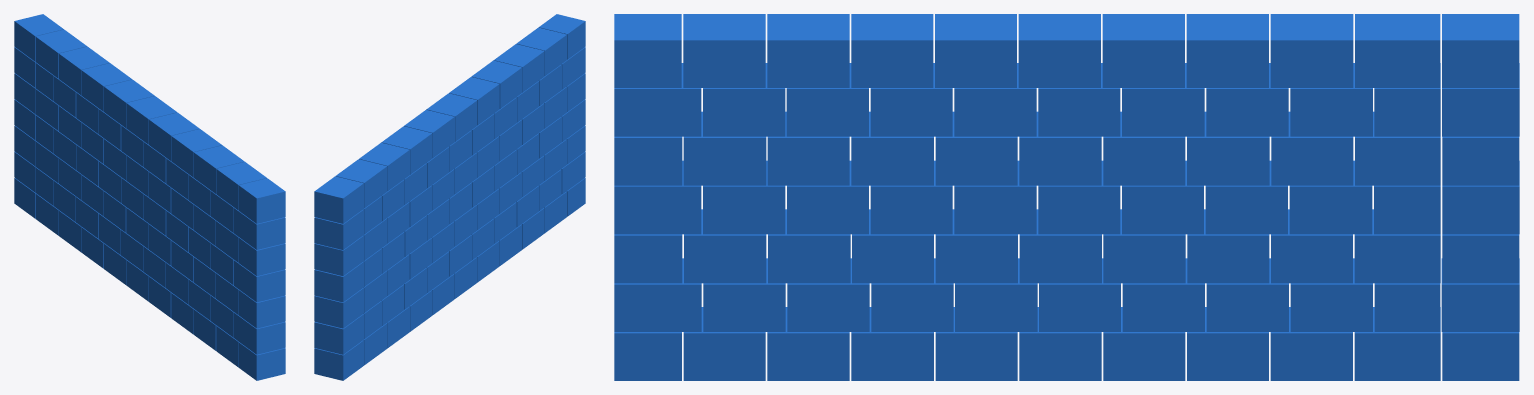
The model's file is cik cak zid.fbx.
3 views of the same model, side by side, from view 1: azimuth 30°, elevation 25°; view 2: azimuth 150°, elevation 25°; view 3: azimuth 270°, elevation 25° (orthographic). The views are drawn at different scales.
Visible parts, largest first — view 1: Wall.081, Wall.114, Wall.136, Wall.093, Wall.092, Wall.104, Wall.147, Wall.125, Wall.084, Wall.091, Wall.087, Wall.090 (+65 smaller); view 2: Wall.082, Wall.115, Wall.137, Wall.094, Wall.105, Wall.148, Wall.126, Wall.092, Wall.085, Wall.084, Wall.087, Wall.090 (+65 smaller); view 3: Wall.092, Wall.091, Wall.083, Wall.084, Wall.085, Wall.087, Wall.088, Wall.090, Wall.086, Wall.082, Wall.081, Wall.114 (+65 smaller).
Boxes of the visible parts, <box> form: Wall.081: <box>238,178,285,223</box>; Wall.114: <box>233,260,285,302</box>; Wall.136: <box>233,312,285,354</box>; Wall.093: <box>233,207,285,249</box>; Wall.092: <box>35,29,87,78</box>; Wall.104: <box>238,237,285,275</box>; Wall.147: <box>238,342,285,380</box>; Wall.125: <box>238,289,285,328</box>; Wall.084: <box>193,145,244,193</box>; Wall.091: <box>59,46,109,94</box>; Wall.087: <box>126,96,177,144</box>; Wall.090: <box>81,63,132,111</box>; Wall.082: <box>314,176,363,223</box>; Wall.115: <box>314,261,363,302</box>; Wall.137: <box>314,314,363,354</box>; Wall.094: <box>314,209,363,249</box>; Wall.105: <box>314,235,363,275</box>; Wall.148: <box>314,340,363,380</box>; Wall.126: <box>314,288,363,328</box>; Wall.092: <box>336,159,387,208</box>; Wall.085: <box>471,60,522,108</box>; Wall.084: <box>493,44,544,92</box>; Wall.087: <box>426,93,477,141</box>; Wall.090: <box>381,126,432,174</box>; Wall.092: <box>1355,14,1440,87</box>; Wall.091: <box>1270,14,1353,87</box>; Wall.083: <box>683,14,765,87</box>; Wall.084: <box>767,14,849,87</box>; Wall.085: <box>851,14,933,87</box>; Wall.087: <box>1018,14,1100,87</box>; Wall.088: <box>1102,14,1184,87</box>; Wall.090: <box>1186,14,1268,87</box>; Wall.086: <box>935,14,1016,87</box>; Wall.082: <box>1442,14,1519,87</box>; Wall.081: <box>614,14,681,87</box>; Wall.114: <box>614,160,701,234</box>.
Size of the model in its own units: 197 by 1190 by 2866.
